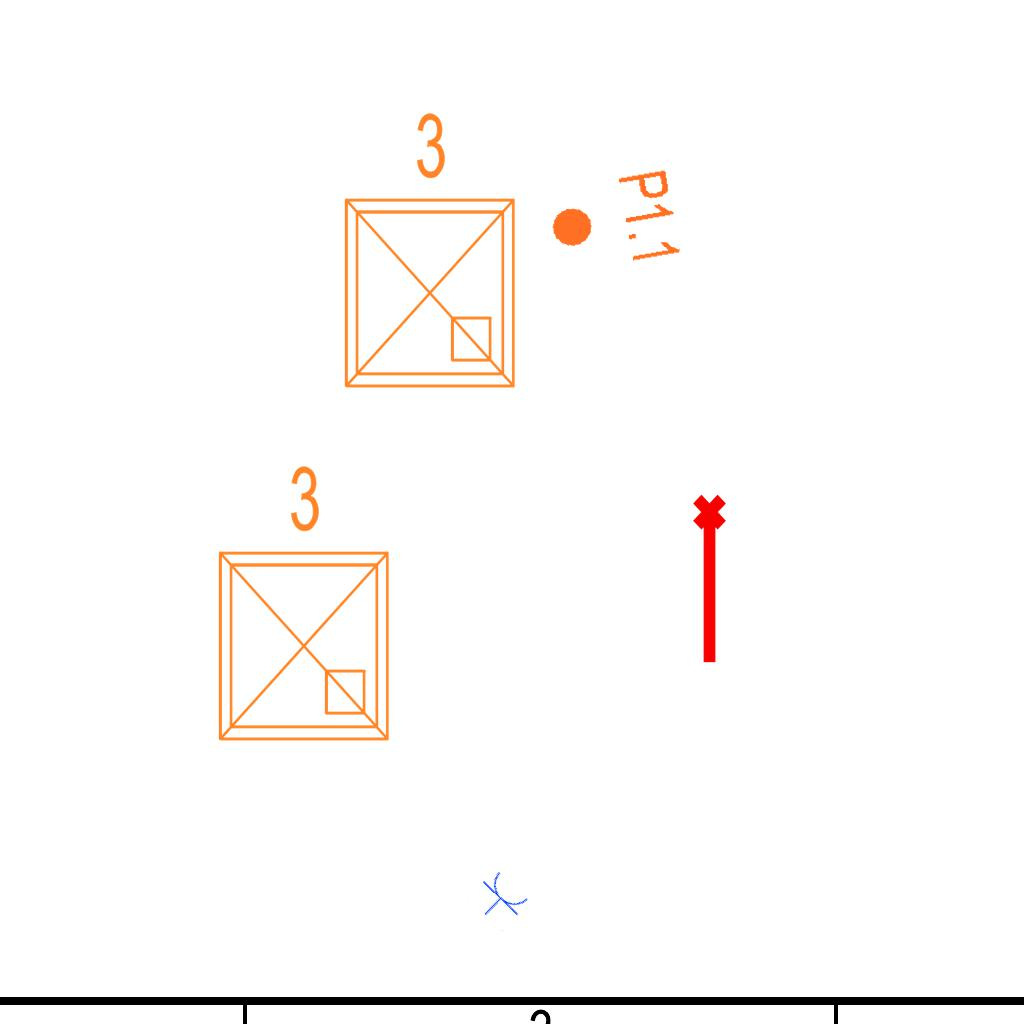ASR_Ansaugoeffnung: (689, 492, 735, 668)
Downlight_LED_Einbauleuchten_Flur: (542, 166, 685, 280)
Einbaudownlights_LED_Konferenzraeume: (322, 102, 530, 402), (196, 455, 404, 755)
Schukosteckdose_einfach: (467, 866, 533, 933)
